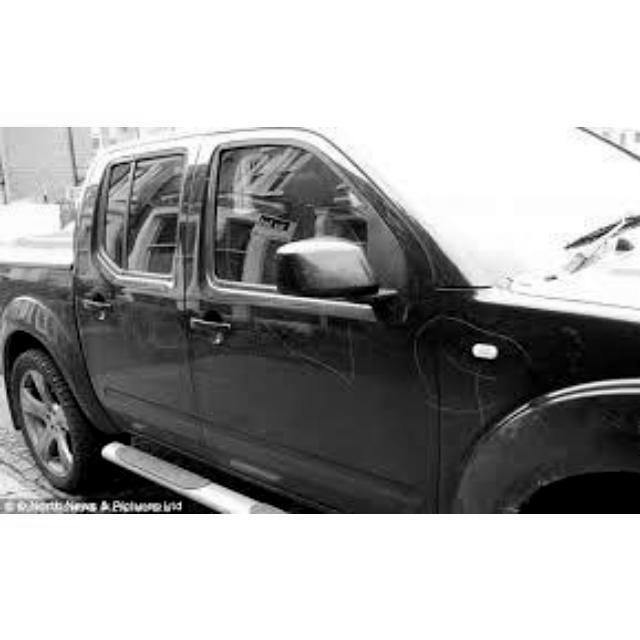fender-dent: (454, 290, 586, 482)
